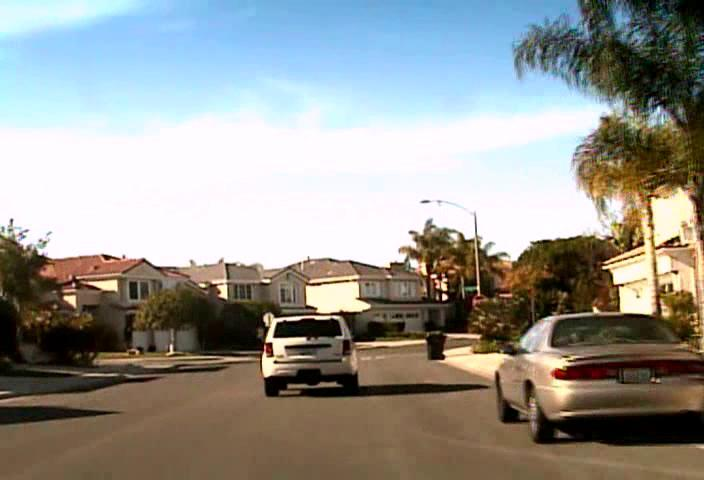stop: (472, 294, 488, 309)
